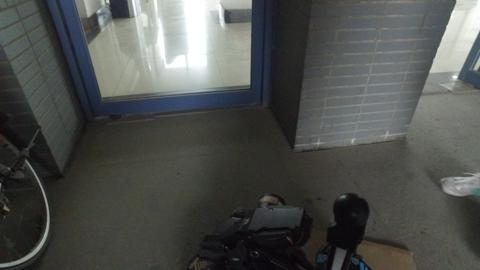chariot: (190, 184, 375, 268)
